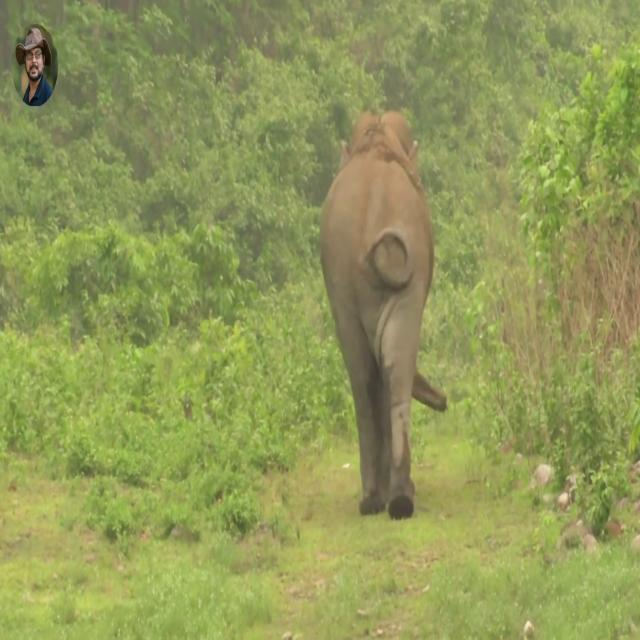Elephant: (319, 108, 448, 520)
